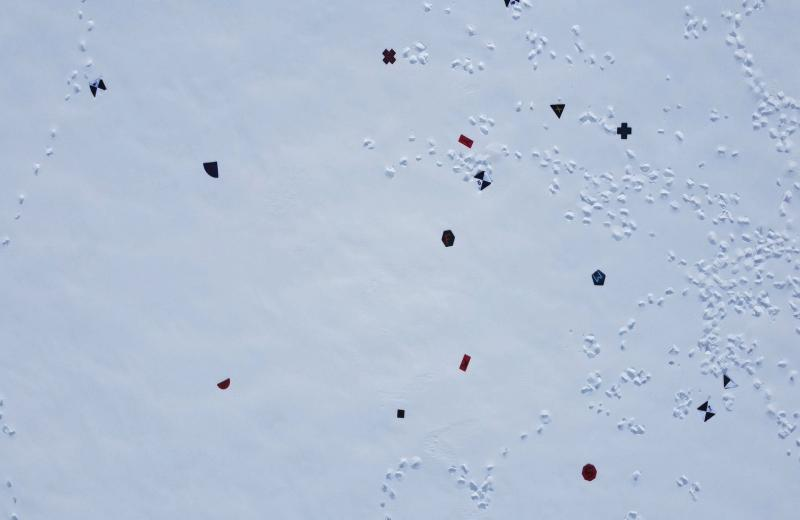Cross: (617, 122, 633, 140), (382, 46, 397, 65)
Hexagon: (441, 228, 455, 248)
Octagon: (582, 462, 598, 482)
Pentagon: (591, 270, 606, 287)
Quarter Circle: (204, 156, 220, 181)
Rectangle: (458, 131, 475, 151), (458, 353, 474, 371)
Semi Circle: (216, 377, 232, 390)
Square: (395, 407, 406, 419)
Triangle: (550, 100, 566, 120)
